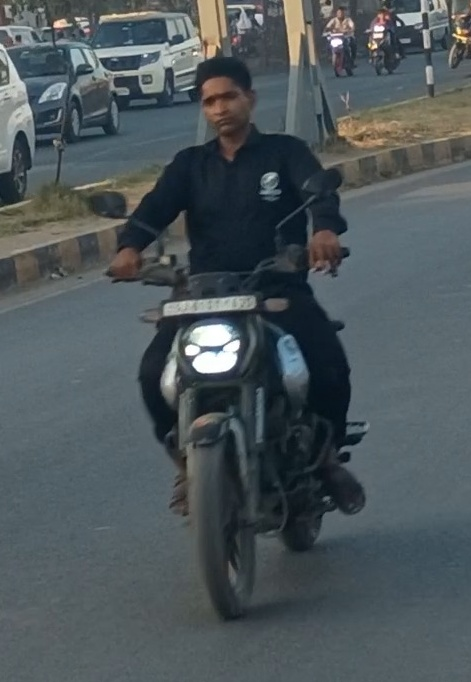BikeWithRider: (77, 51, 376, 628), (360, 0, 409, 80), (317, 1, 362, 81)
NoHelmet: (186, 52, 265, 143)
